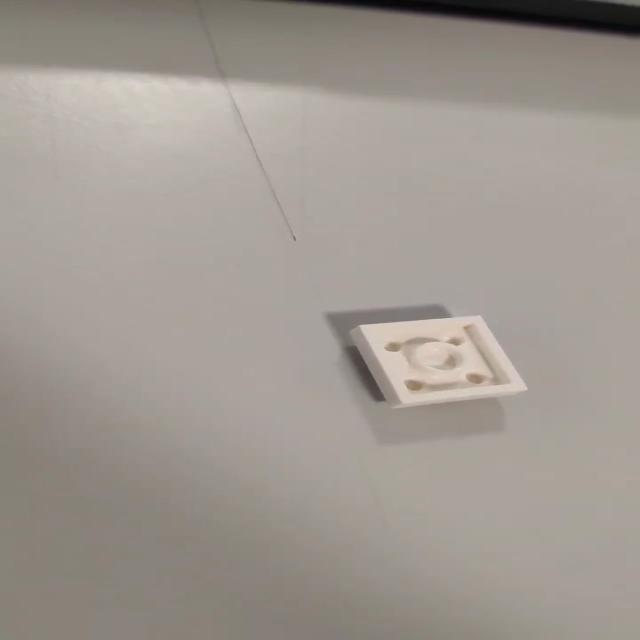C2x2x0: (342, 316, 533, 408)
